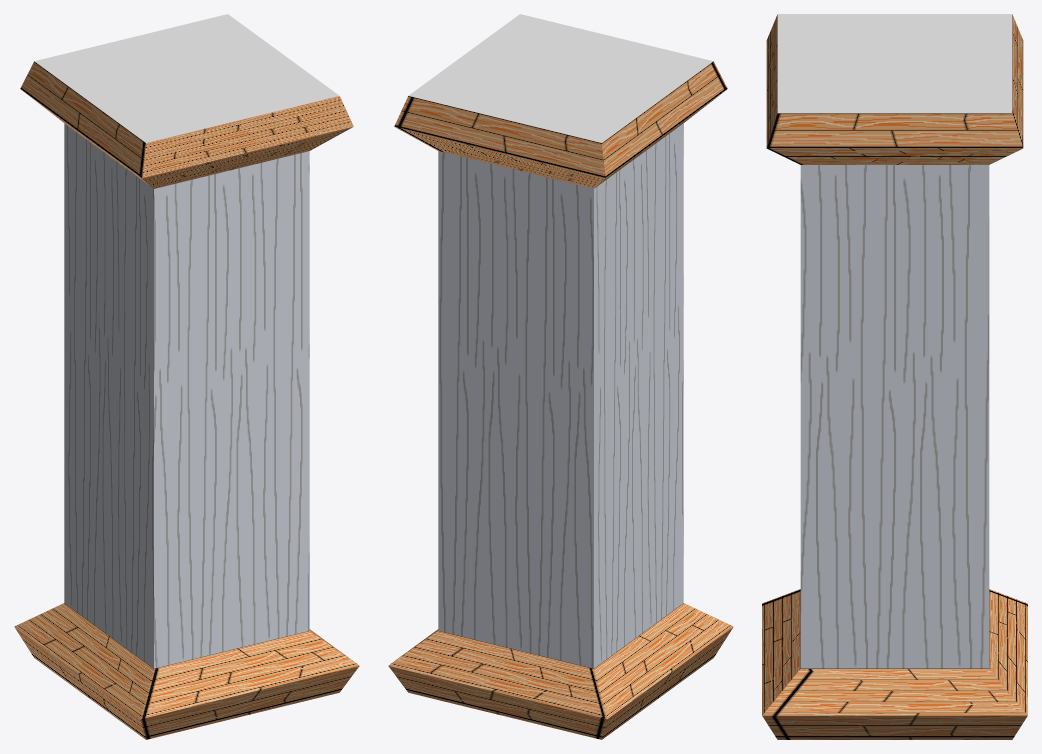
Rendered from COLUMNA COMA texturas.fbx.
3 renders of one model, left to right at view 1: azimuth 30°, elevation 25°; view 2: azimuth 150°, elevation 25°; view 3: azimuth 270°, elevation 25°, orthographic. The views are drawn at different scales.
Parts seen in each view (by area): view 1: Cube; view 2: Cube; view 3: Cube.
Boxes of the visible parts, x1,y1,x2,y2 form: Cube: (14,14,359,739); Cube: (388,14,733,739); Cube: (762,14,1027,739).
Bounding box in the file's own units: 2.82 × 2.82 × 7.33.
Materials: 3 (2 with a texture image).
